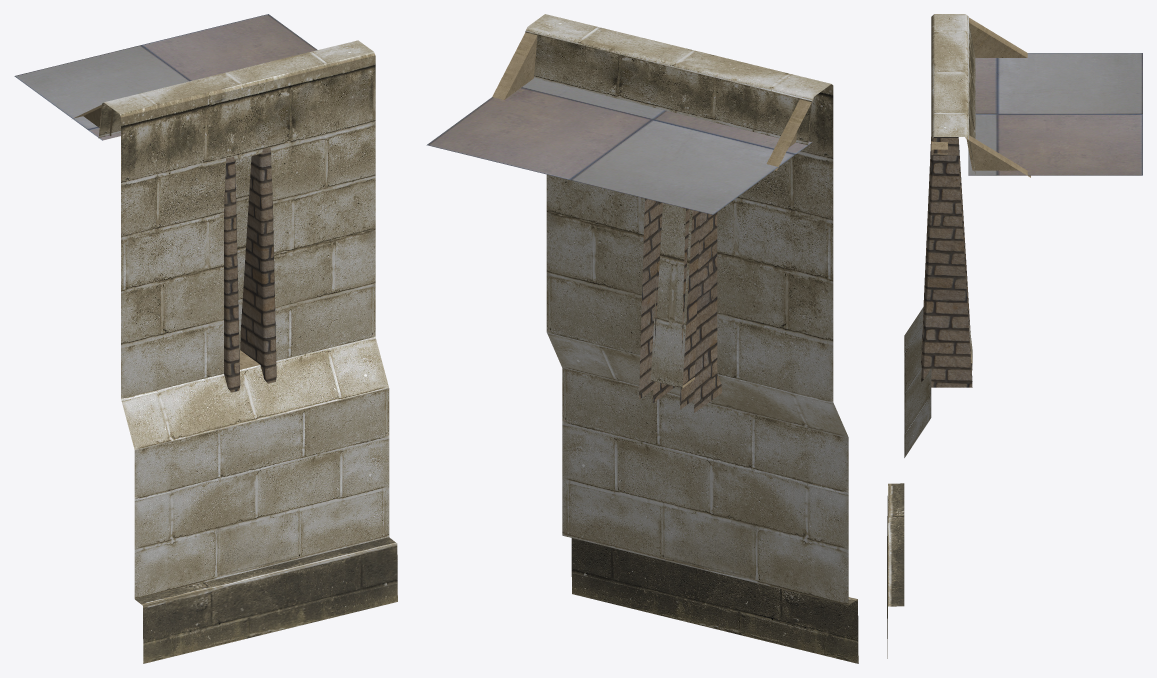
Rendered from castle-wall-w-deco-2.fbx.
3 renders of one model, left to right at view 1: azimuth 30°, elevation 25°; view 2: azimuth 150°, elevation 25°; view 3: azimuth 270°, elevation 25°, orthographic. The views are drawn at different scales.
Parts seen in each view (by area): view 1: castle-wall-w-deco-2; view 2: castle-wall-w-deco-2; view 3: castle-wall-w-deco-2.
Boxes of the visible parts, box(x1,y1,x2,y2) form: castle-wall-w-deco-2: box(14, 14, 397, 663); castle-wall-w-deco-2: box(426, 14, 858, 663); castle-wall-w-deco-2: box(887, 14, 1142, 658).
Size of the model in its own units: 200 by 400 by 176.
